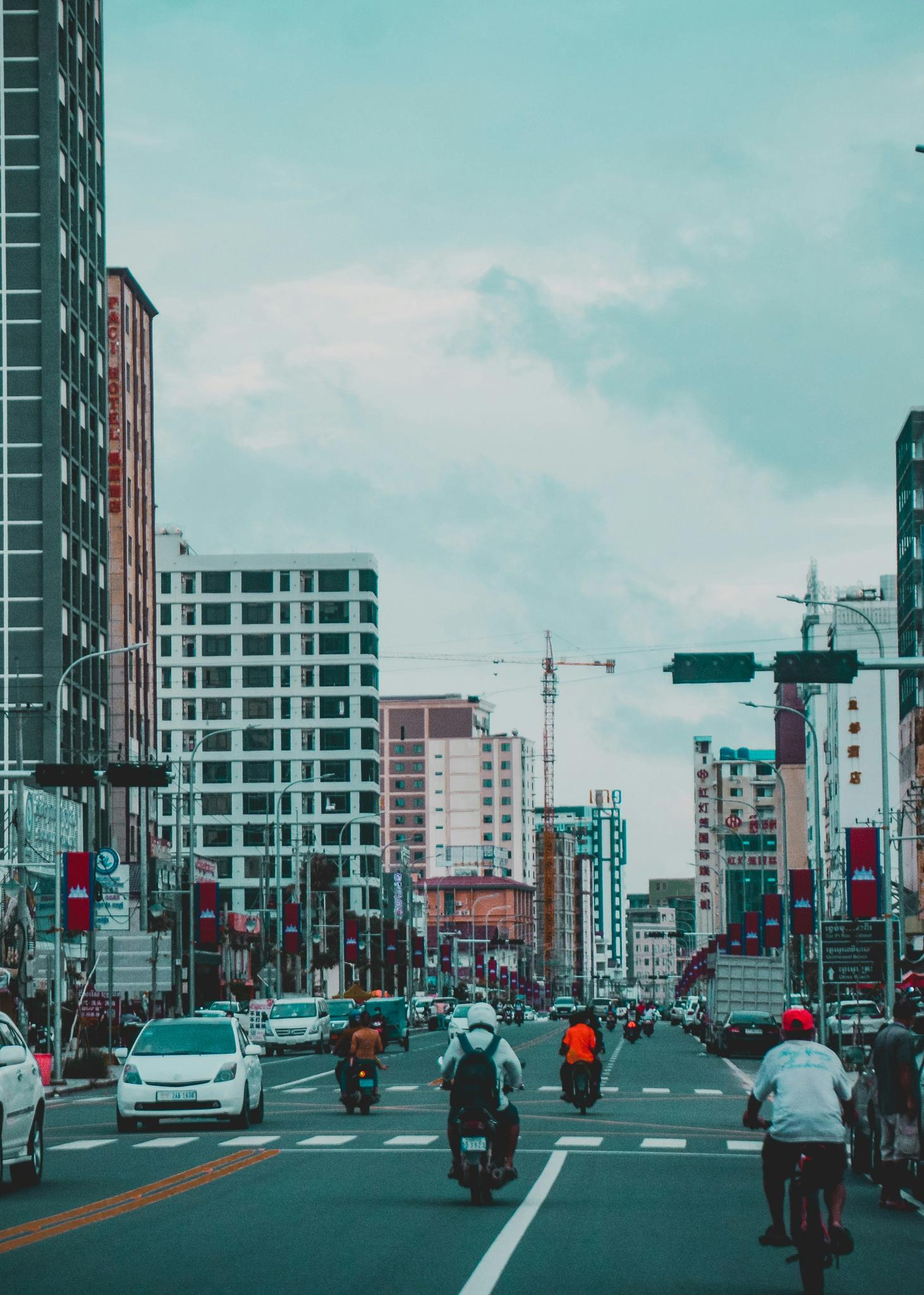car: (117, 1021, 267, 1141), (0, 1017, 49, 1195), (435, 1001, 500, 1075), (269, 1000, 330, 1060), (357, 995, 414, 1052), (721, 1012, 783, 1058), (246, 1001, 274, 1056), (328, 999, 360, 1044), (410, 995, 434, 1032), (199, 999, 240, 1016), (552, 996, 576, 1019), (503, 1003, 529, 1024)
pedestrian: (751, 1006, 862, 1252), (873, 1002, 924, 1193), (446, 1018, 517, 1125), (561, 1006, 602, 1083), (349, 1004, 378, 1069)
